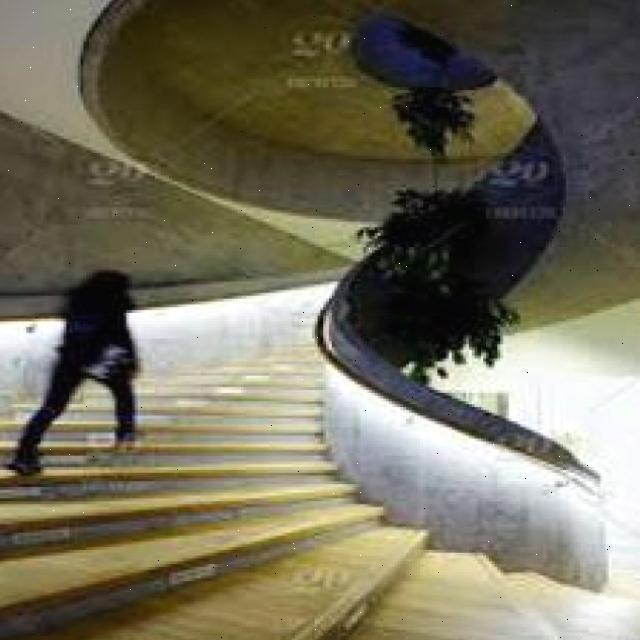stair: (4, 429, 429, 630)
